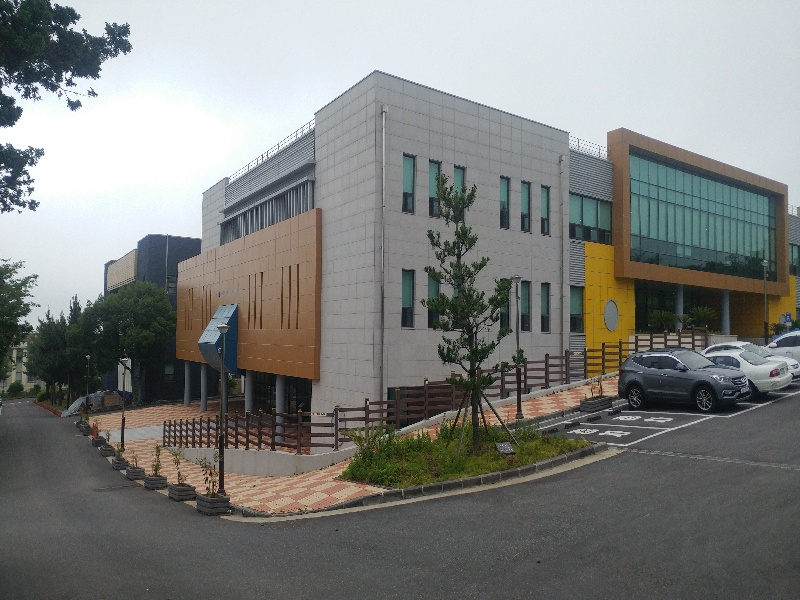Digital Library: (180, 117, 791, 331), (182, 102, 580, 408)
